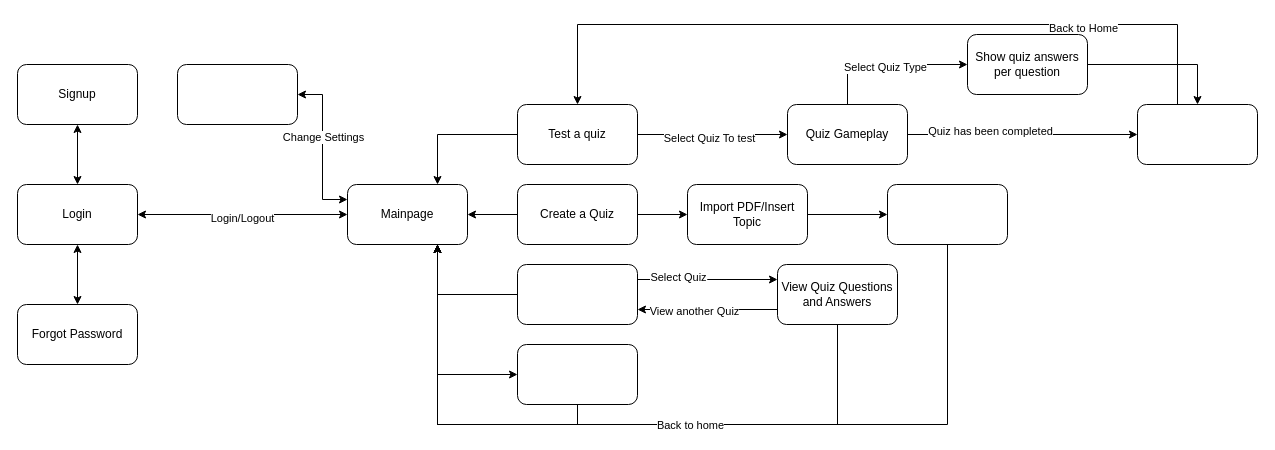
The diagram is 1275 pixels wide and 450 high, and some of its shapes have lost their labels. The centre of each missing label's shape, as x and y in pixels:
"Final Quiz Score/Answers" goes at pixel 1197 134.
"Learn a Quiz" goes at pixel 577 294.
"Review Quiz" goes at pixel 947 214.
"settings" goes at pixel 237 94.
"Show Previous Results" goes at pixel 577 374.
